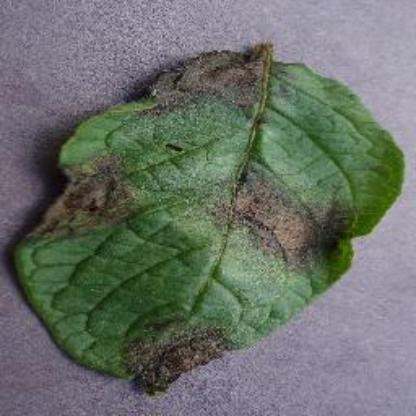Late-Blight: (20, 49, 412, 382)
